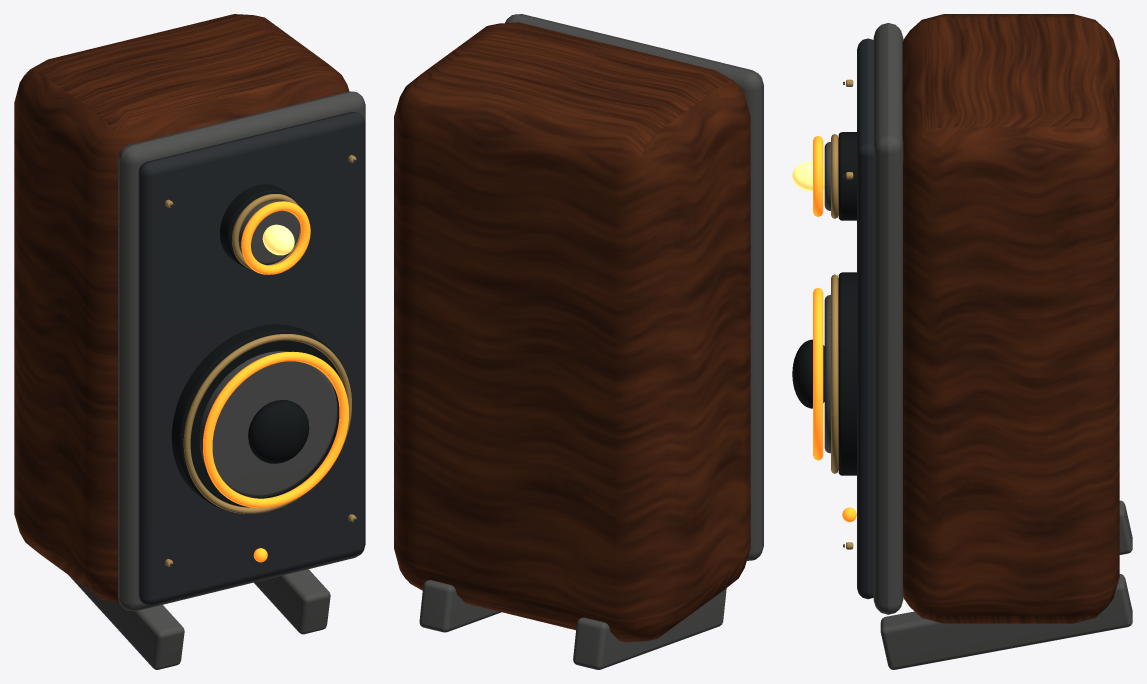
File: aventura_caixa_som_grande.glb
3 renders of one model, left to right at view 1: azimuth 30°, elevation 25°; view 2: azimuth 150°, elevation 25°; view 3: azimuth 270°, elevation 25°, orthographic. The views are drawn at different scales.
Visible parts, largest first — view 1: caixa_som_grande; view 2: caixa_som_grande; view 3: caixa_som_grande.
Part boxes in pixels (x1,y1,x2,y2): caixa_som_grande: (14, 14, 365, 669); caixa_som_grande: (394, 14, 763, 669); caixa_som_grande: (792, 14, 1132, 669).
Size of the model in its own units: 0.17 by 0.3361 by 0.1841.
Materials: 7 (1 with a texture image).
